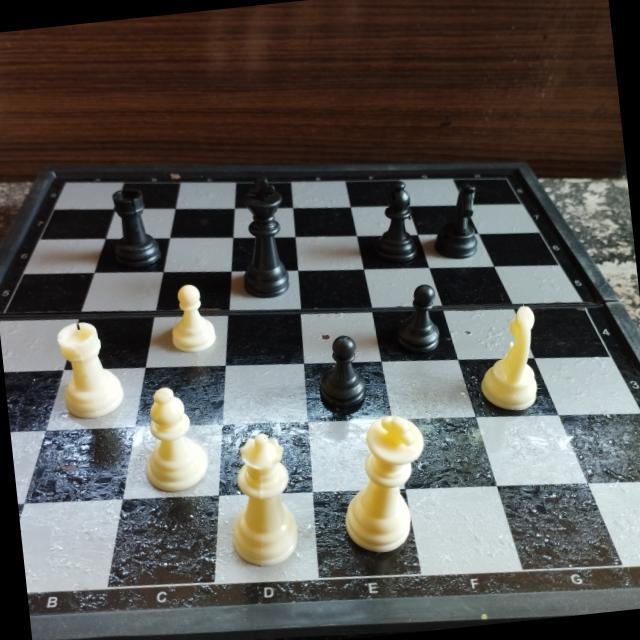Black Bishop: (368, 174, 423, 271)
Black King: (229, 172, 302, 308)
Black Knight: (426, 180, 490, 272)
Black Pawn: (311, 325, 378, 421), (395, 279, 448, 362)
Black Rook: (106, 178, 168, 272)
White Bishop: (136, 380, 214, 500)
White King: (327, 405, 442, 567)
White Knight: (470, 300, 550, 420)
White Pawn: (158, 280, 221, 359)
White Queen: (218, 422, 306, 574)
White Rook: (50, 316, 130, 430)
